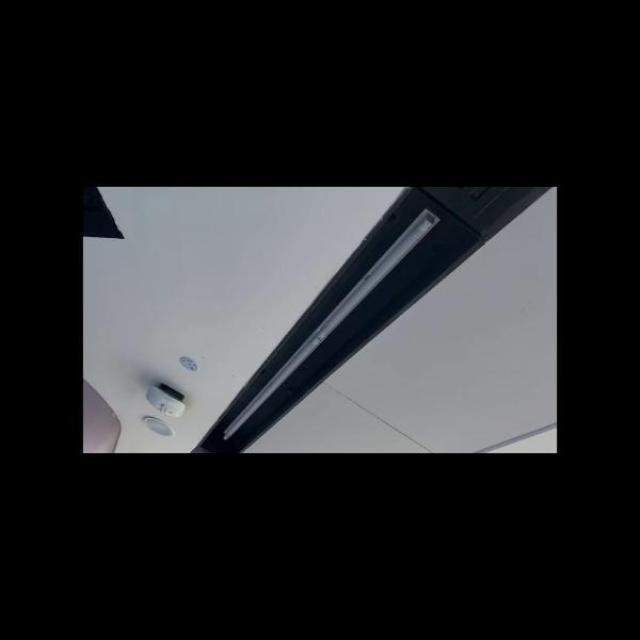Straight-Tube-Fluorescent-Lamp: (217, 206, 445, 444)
